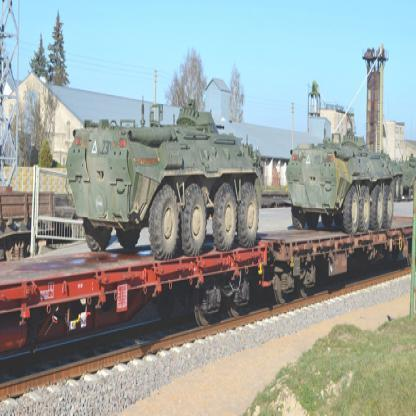MIL_IFV: (66, 105, 263, 261), (290, 132, 394, 235)
